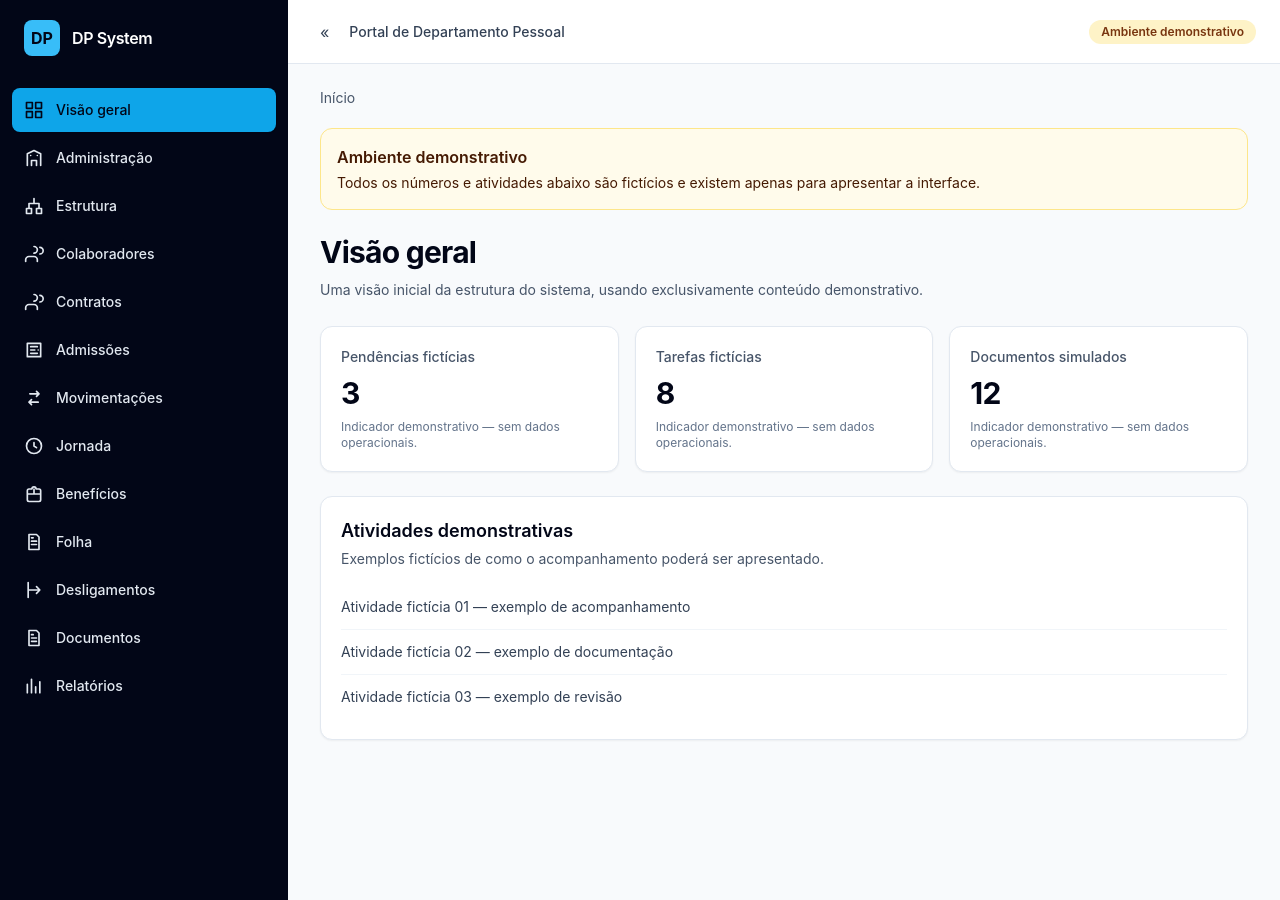
Test: application shell › navigates to a placeholder and marks the active route
Click the link "Administração". click: (97, 162)
box: [23,148,171,176]
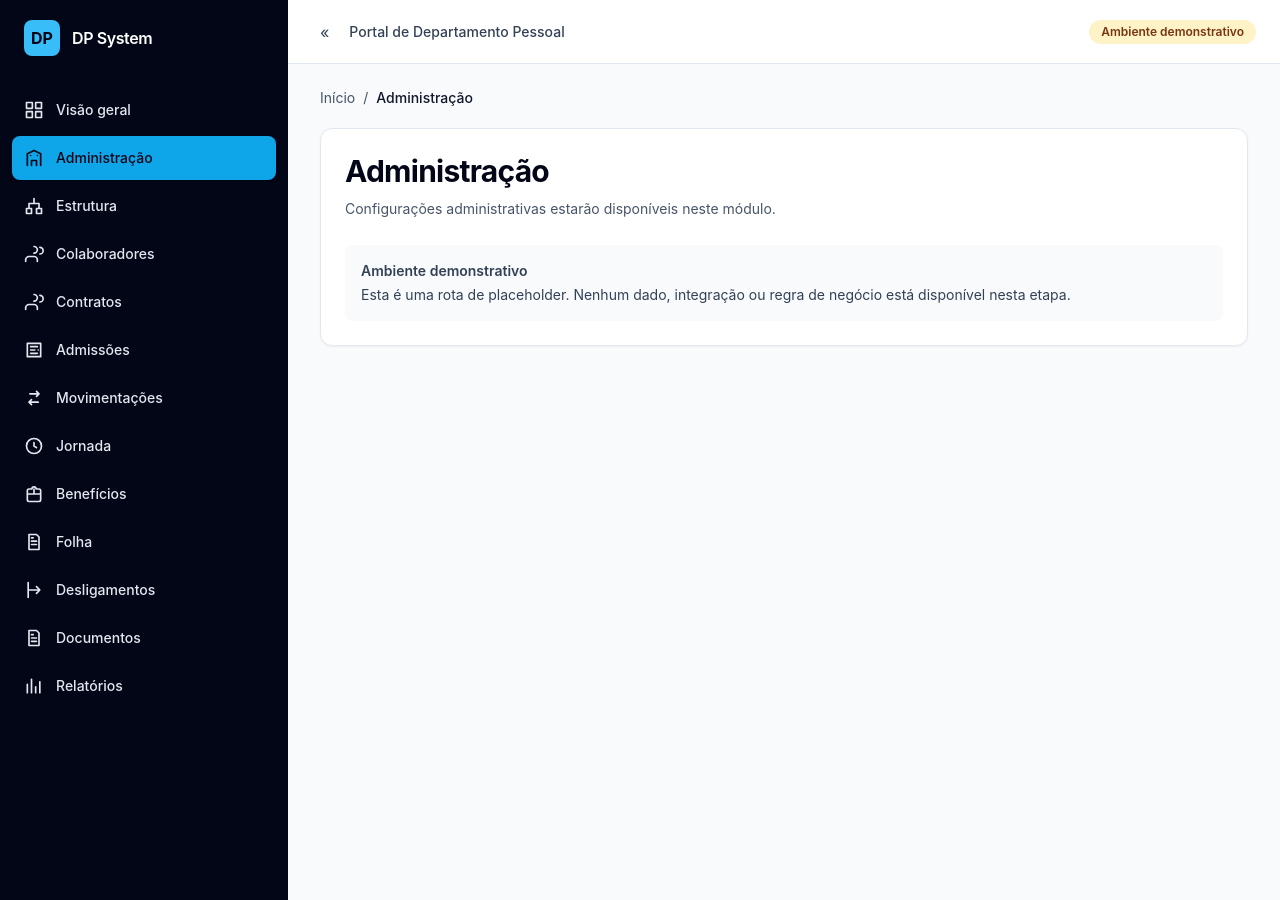
Expected: the heading "Administração" is shown, [345,153,549,189]
Expected: the navigation bar named "Navegação estrutural" reads "Início / Administração", [320,89,473,106]
Expected: the text "rota de placeholder" is shown, [361,286,1071,303]
